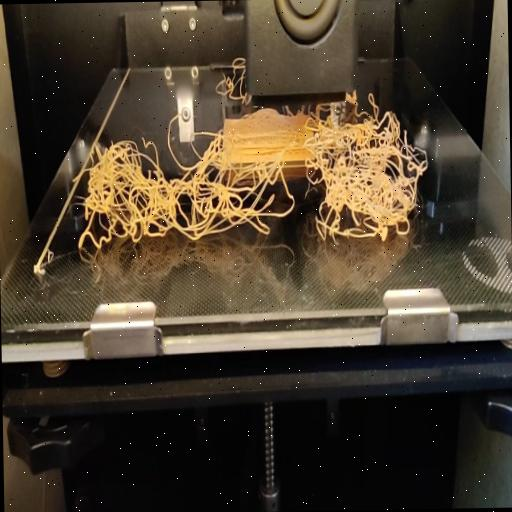spaghetti: (71, 98, 431, 250), (216, 53, 246, 99)
